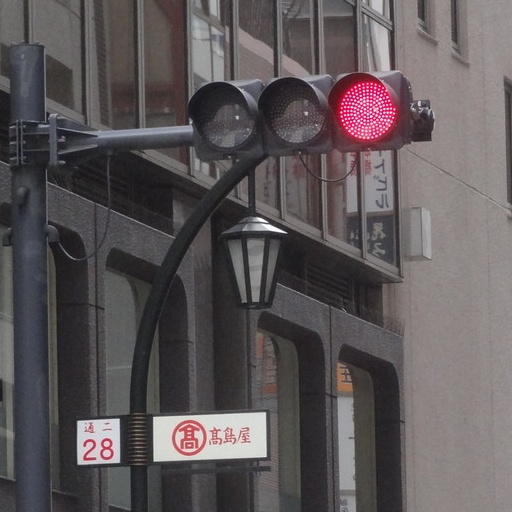Traffic_Signal_Red: (191, 75, 409, 147)
